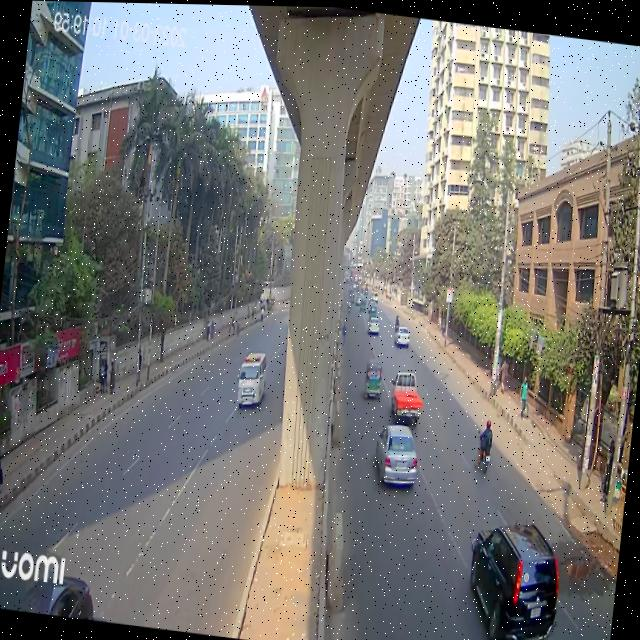cng: (362, 354, 384, 400)
